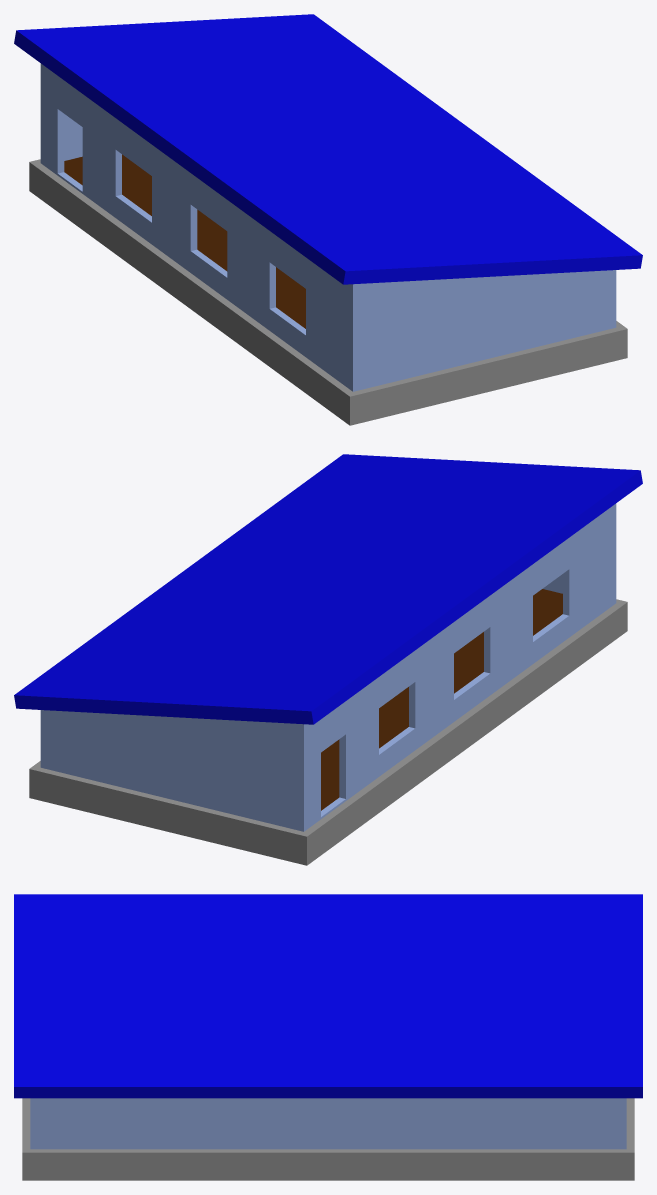
Rendered from House02.fbx.
3 renders of one model, top to bottom at view 1: azimuth 30°, elevation 25°; view 2: azimuth 150°, elevation 25°; view 3: azimuth 270°, elevation 25°, orthographic. The views are drawn at different scales.
Visible parts, largest first — view 1: Roof, Base; view 2: Roof, Base; view 3: Roof, Base.
Boxes of the visible parts, x1,y1,x2,y2 form: Roof: [14, 14, 642, 284]; Base: [29, 63, 627, 425]; Roof: [14, 454, 642, 724]; Base: [29, 503, 627, 865]; Roof: [14, 894, 642, 1098]; Base: [22, 1098, 634, 1180].
Size of the model in its own units: 4107 by 2158 by 1099.
